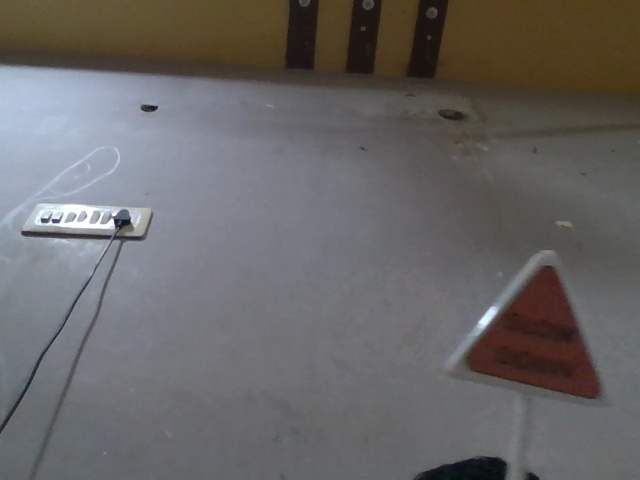slowdown: (425, 268, 628, 426)
